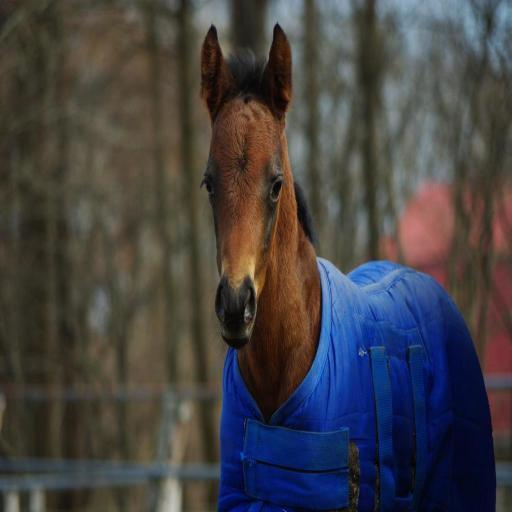horse: (199, 20, 496, 512)
